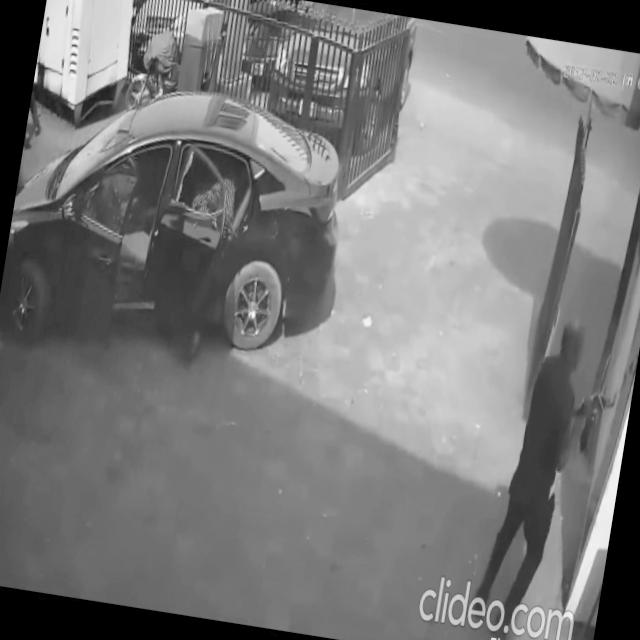gun: (572, 382, 622, 454), (208, 204, 245, 251)
person with a gun: (477, 307, 633, 640), (160, 150, 254, 374)
